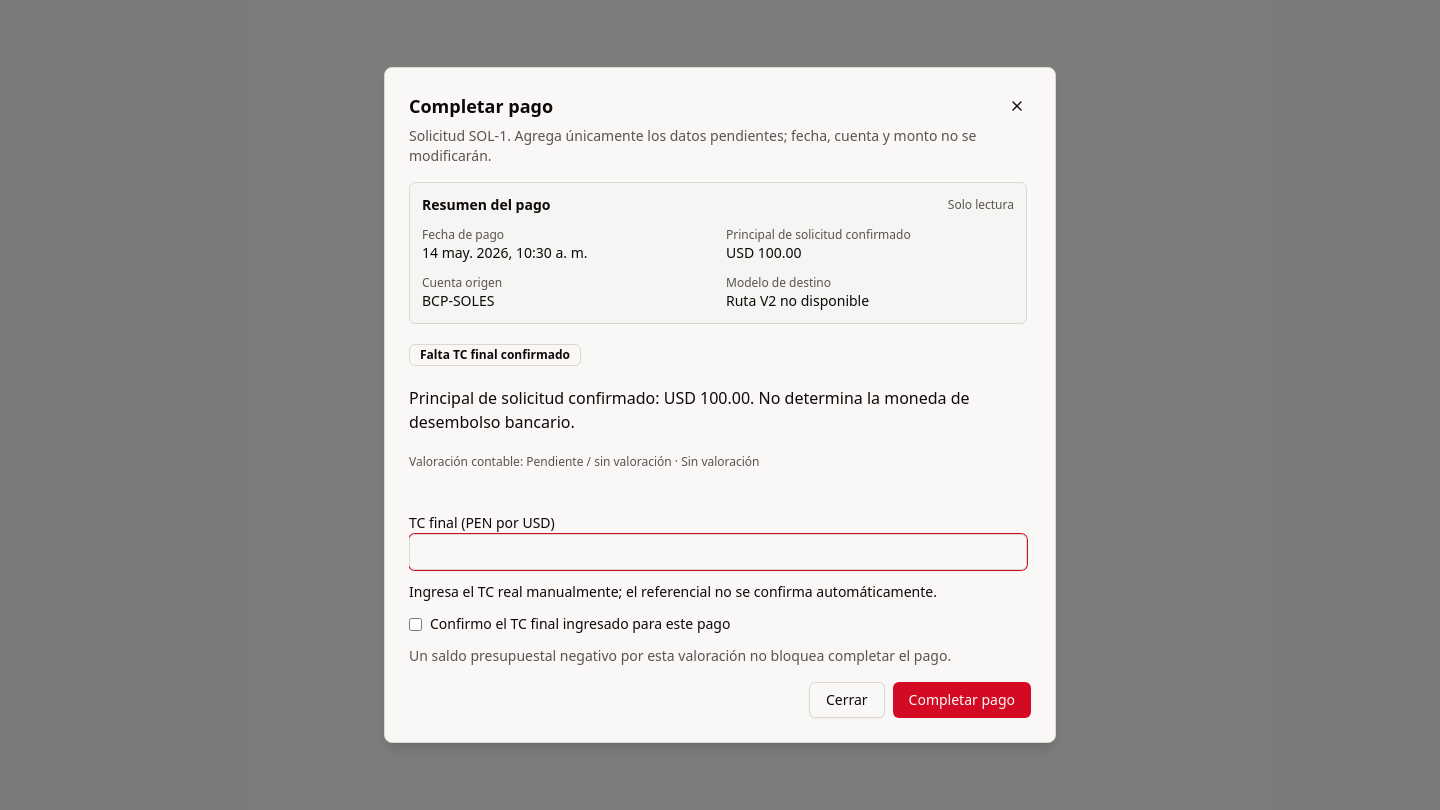
Test: CompletePaymentDetailsModal › rejects invalid USD TC -1 before uploads
The width and height of the screenshot is (1440, 810).
In the field labelled "TC final (PEN por USD)": (718, 552) [409,534,1027,570], type "-1"
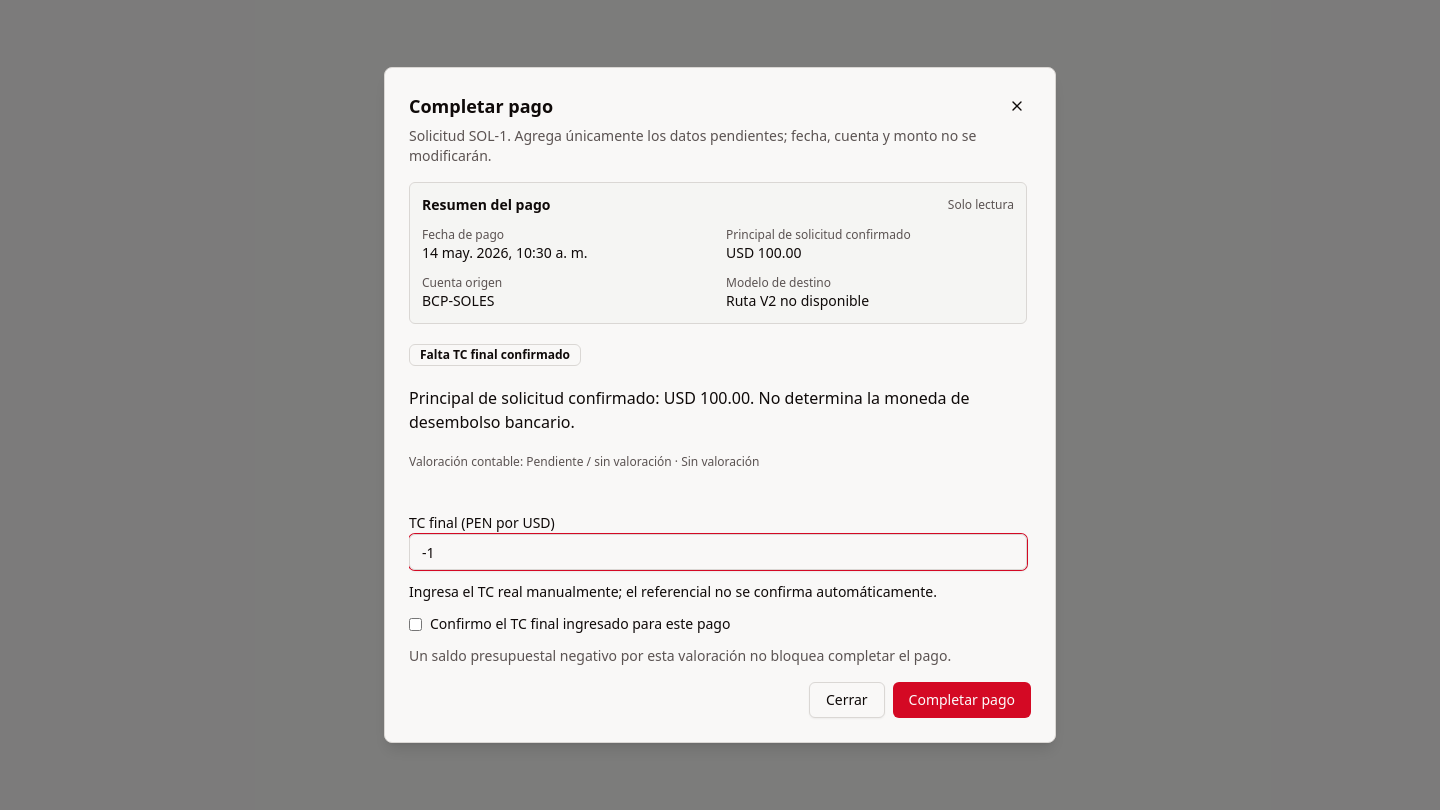
Click the checkbox labelled "Confirmo el TC final ingresado para este pago": (416, 624) [409,618,422,630]
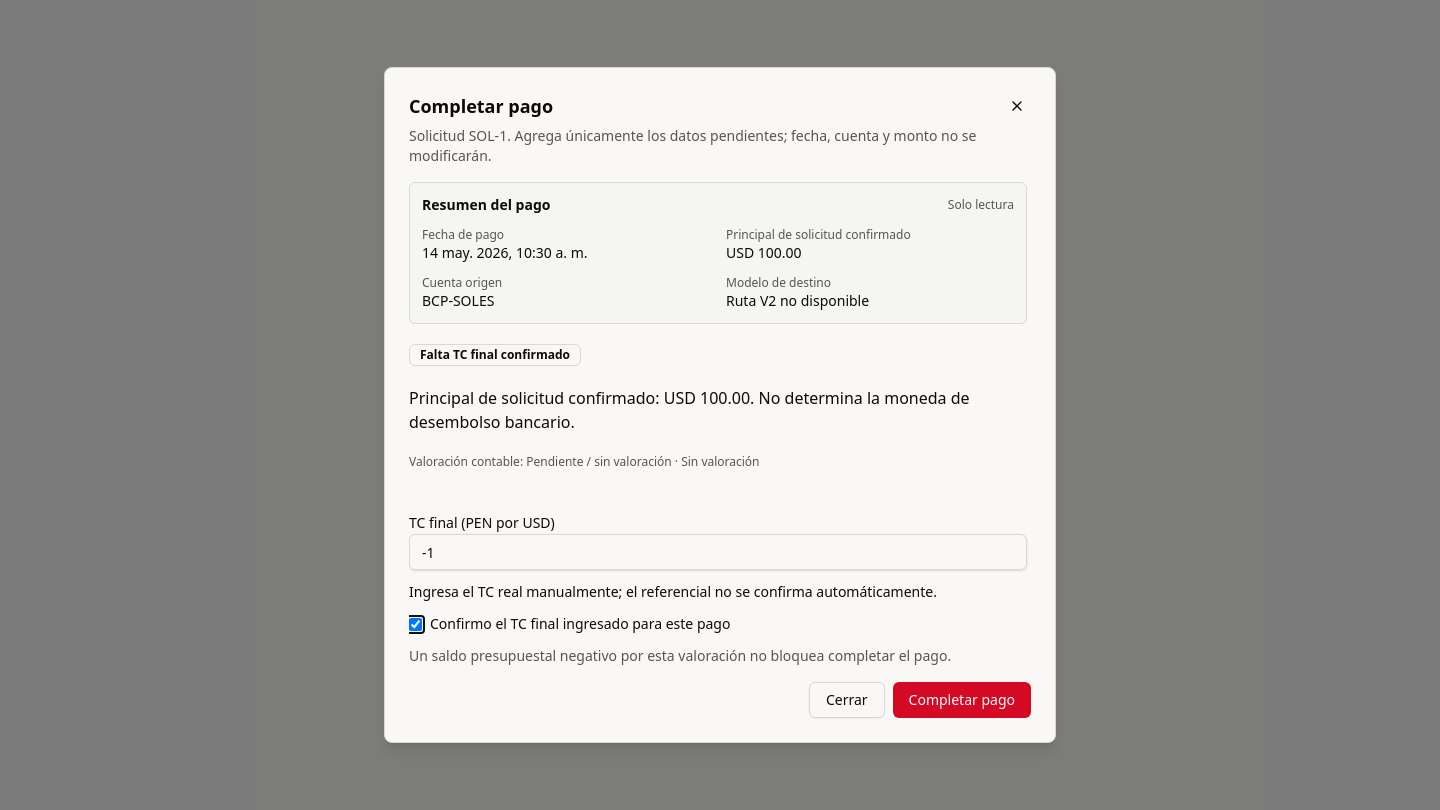
Click the button "Completar pago": (962, 700) [893,682,1031,718]
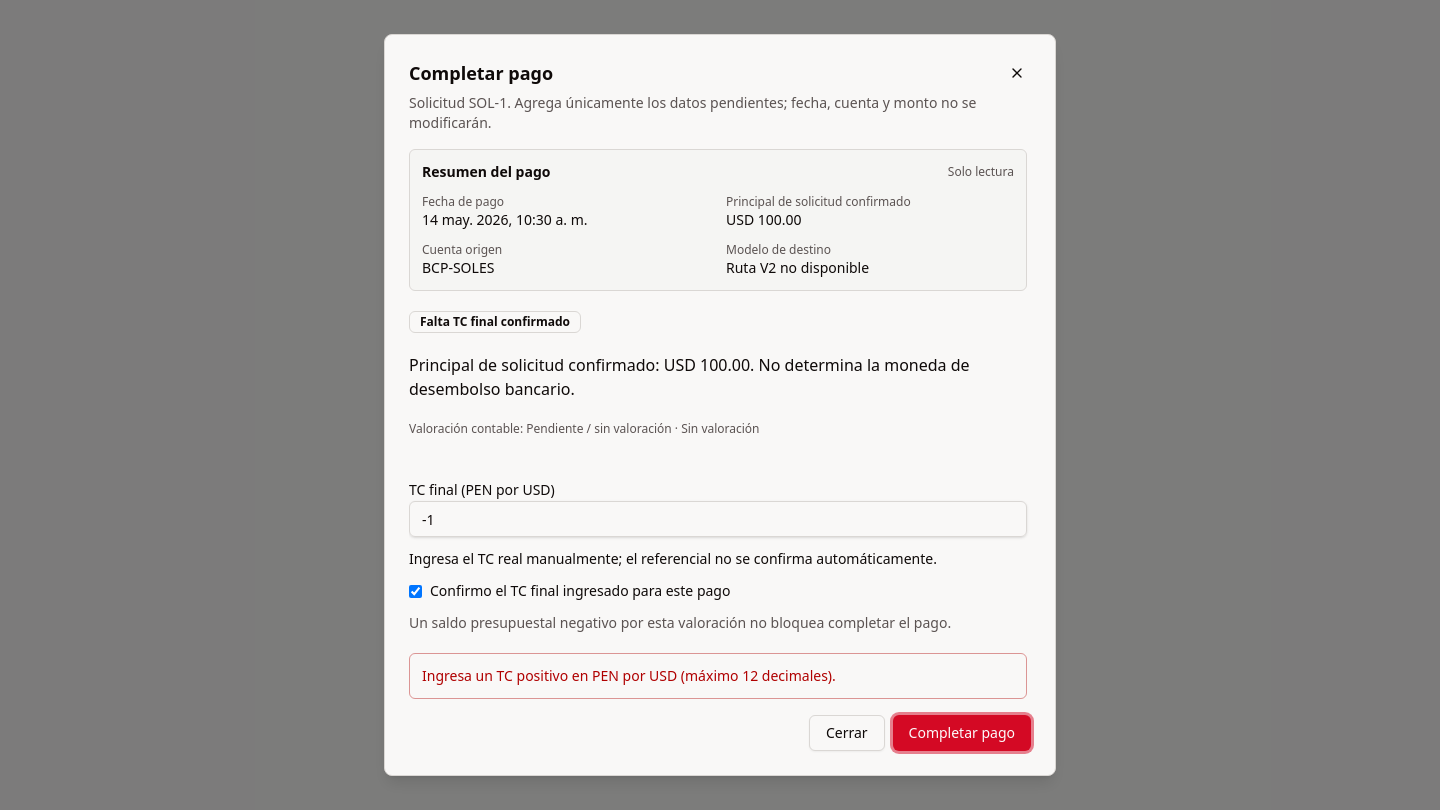
expect the message shows "TC positivo": met, box [422,666,836,685]
